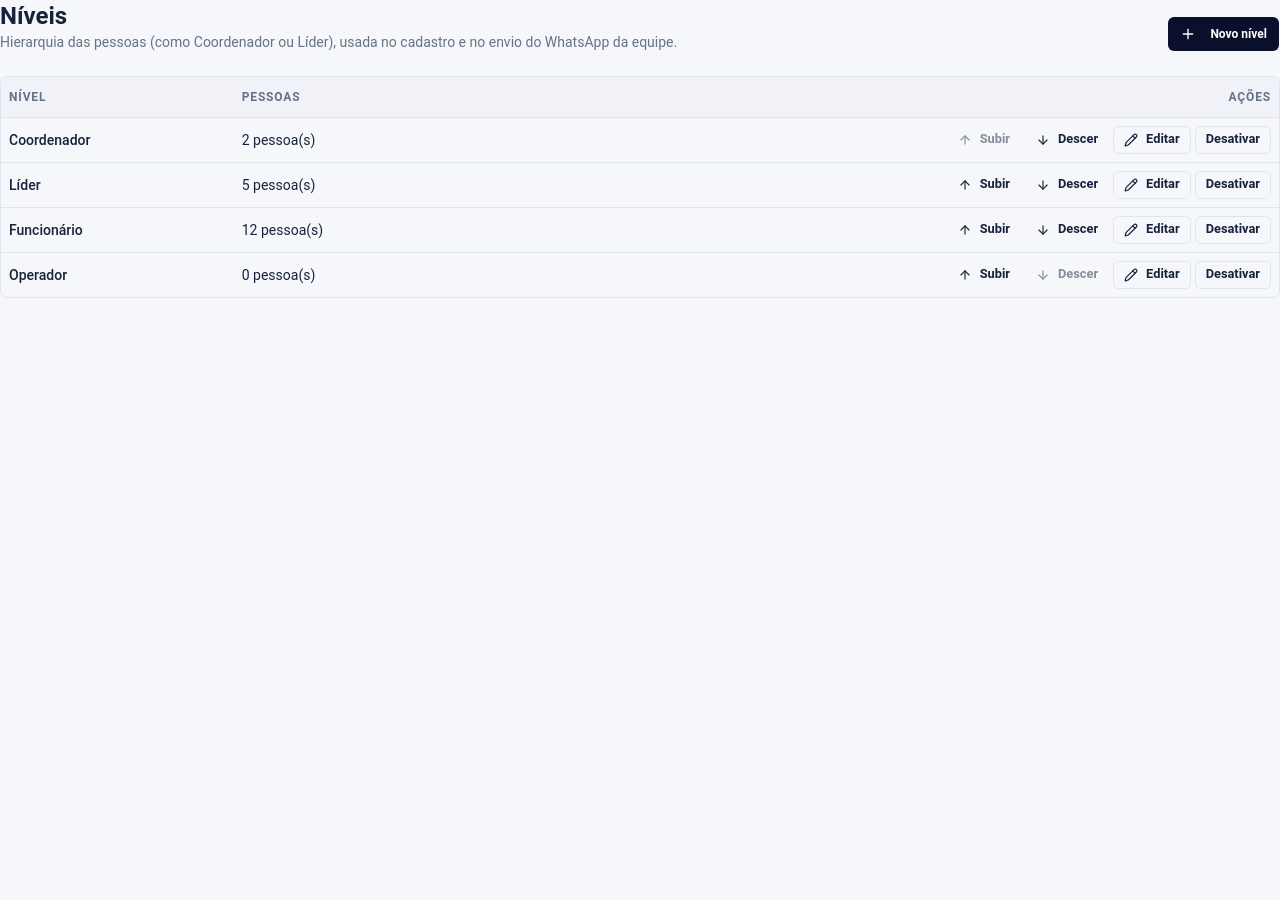
it: /niveis: formulário › 409 levels.name_taken mostra "Já existe um nível com esse nome."
Click the button "Novo nível" at (1224, 34), box [1167, 16, 1279, 52]
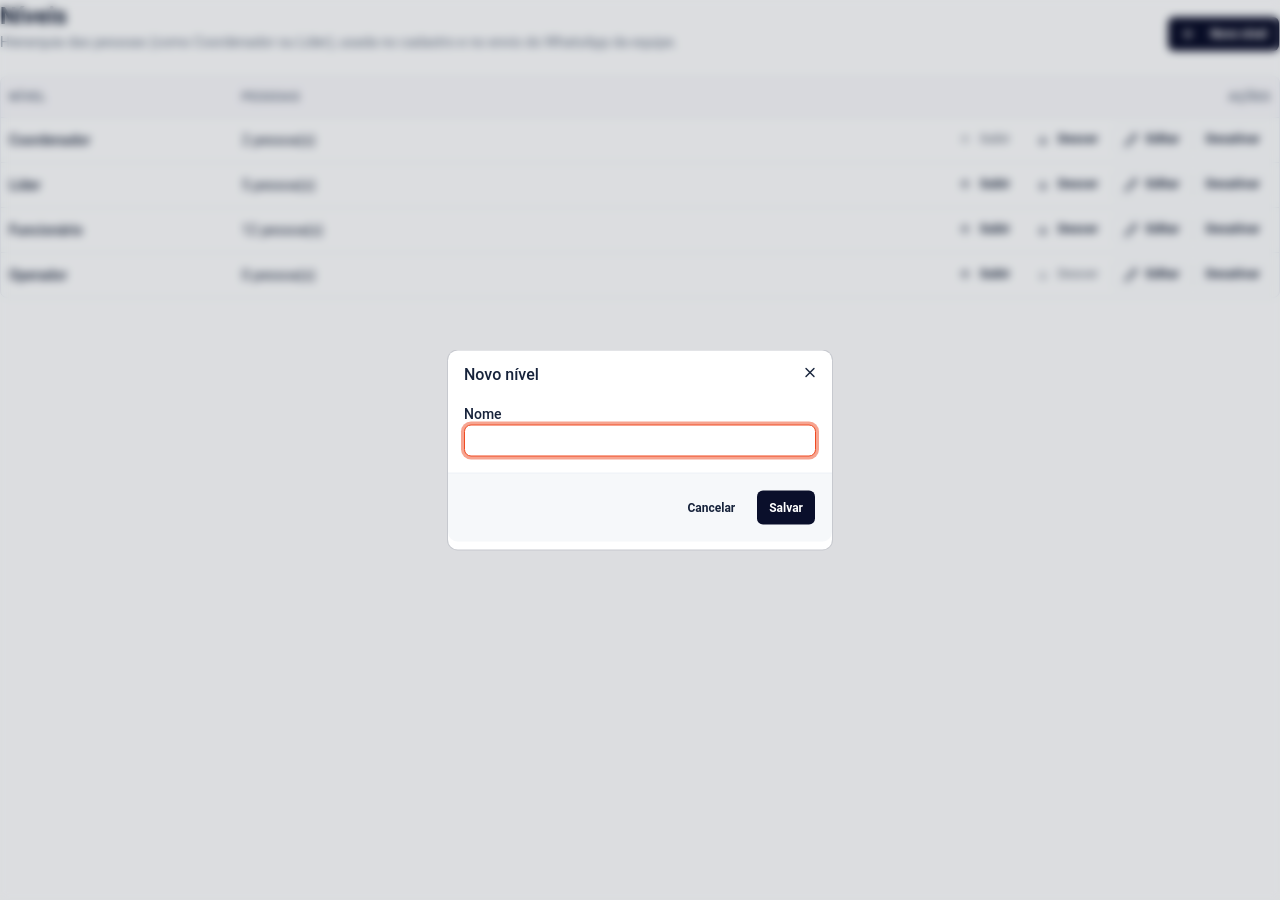
Type "Líder" into the field labelled "Nome" at (640, 440), box [464, 424, 816, 456]
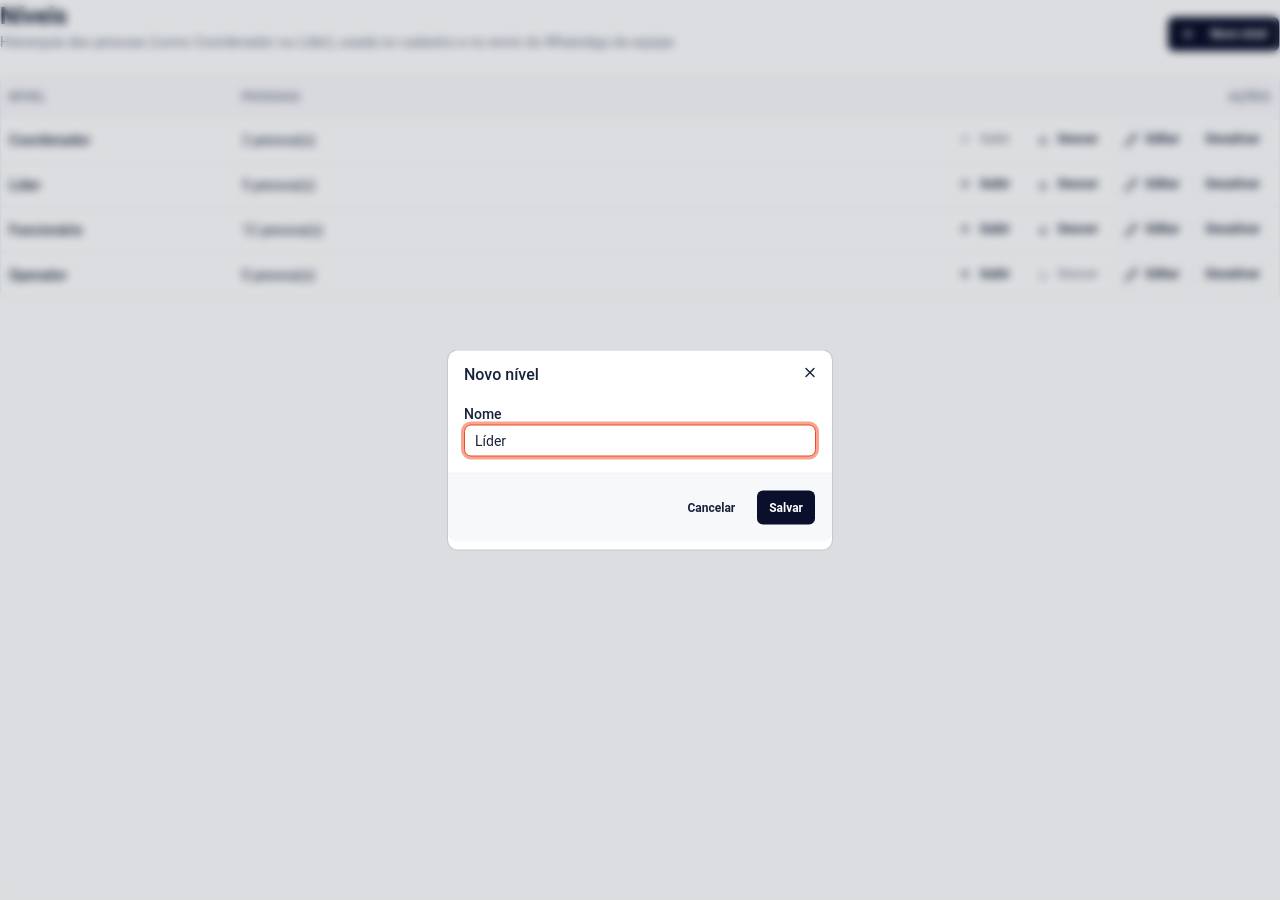
Click the button "Salvar" at (786, 508), box [756, 490, 816, 526]
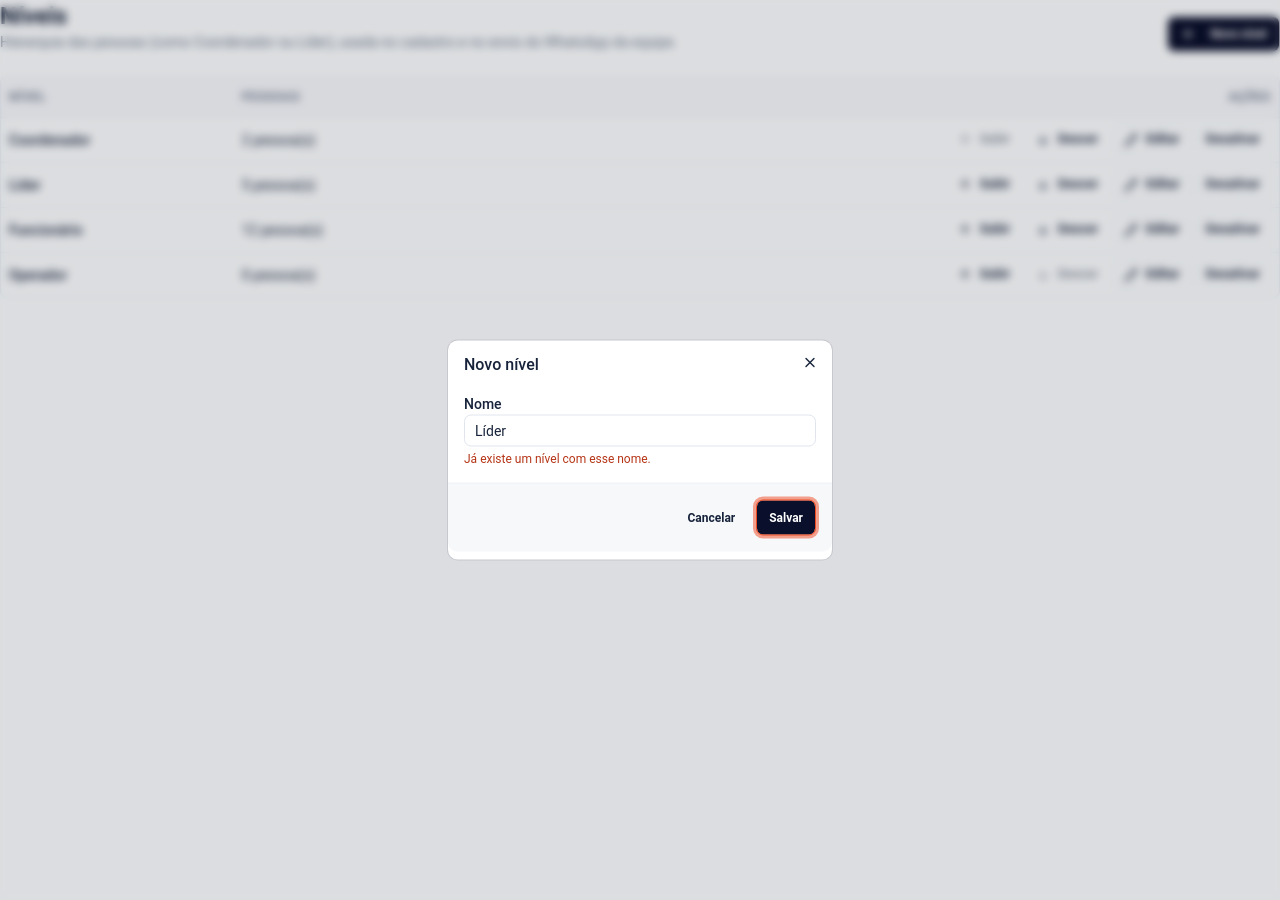
Result: the text "Já existe um nível com esse nome." is shown at [464, 452, 651, 466]
